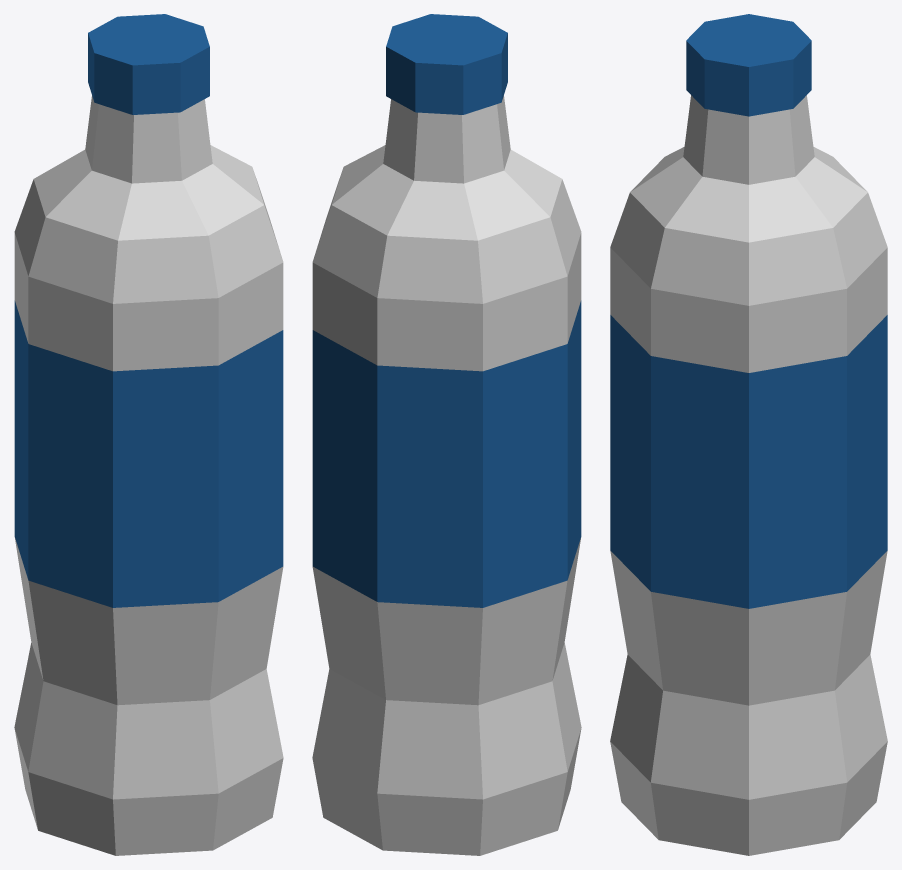
Rendered from SM_bottle_01.fbx.
3 views of the same model, side by side, from view 1: azimuth 30°, elevation 25°; view 2: azimuth 150°, elevation 25°; view 3: azimuth 270°, elevation 25° (orthographic).
Parts seen in each view (by area): view 1: SM_bottle_01; view 2: SM_bottle_01; view 3: SM_bottle_01.
Boxes of the visible parts, bbox=[...] form: SM_bottle_01: bbox=[14, 14, 283, 855]; SM_bottle_01: bbox=[312, 14, 581, 855]; SM_bottle_01: bbox=[610, 14, 887, 855].
Size of the model in its own units: 11.06 by 33.44 by 11.06.
